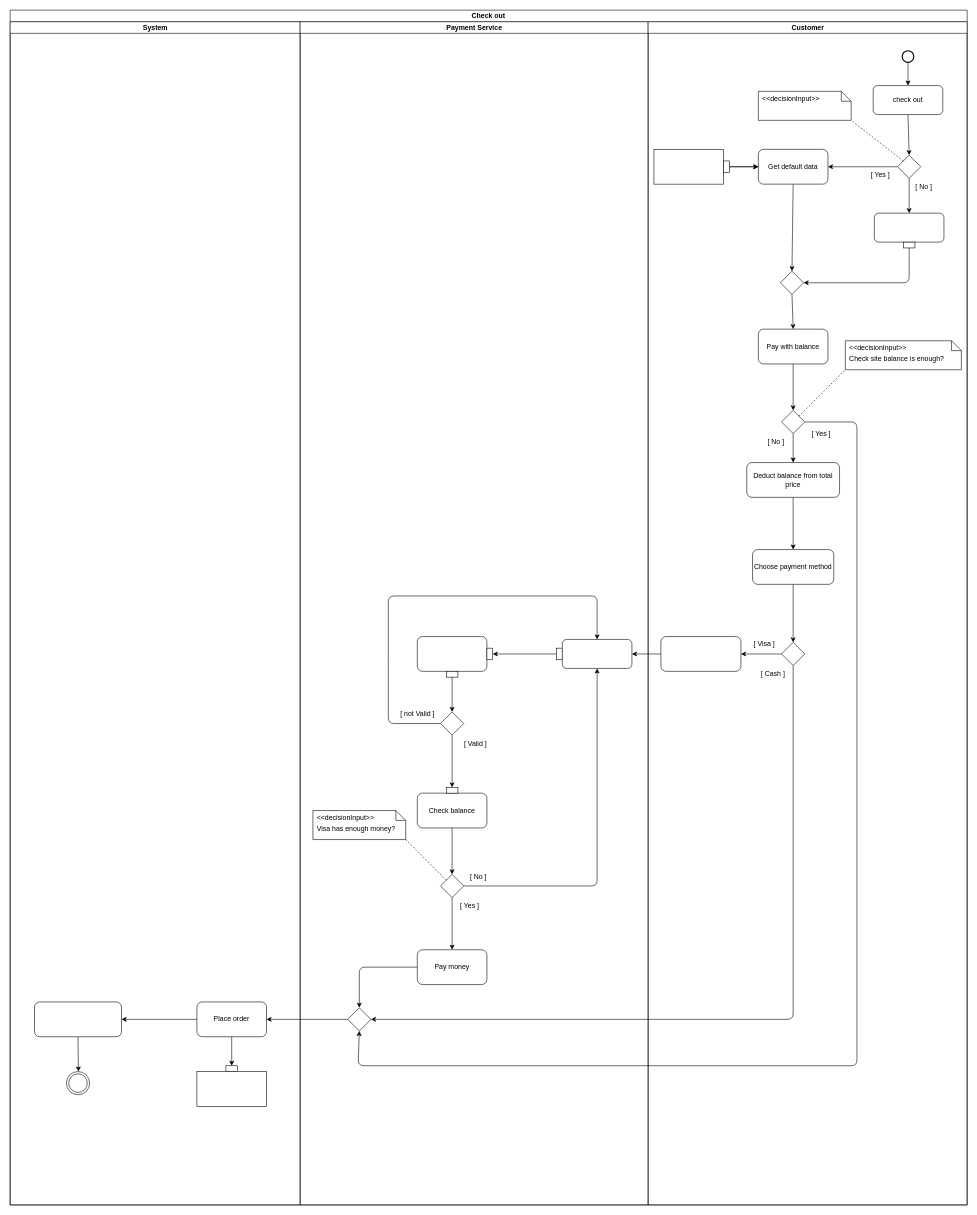
Some shapes in this 977 by 1215 pixel diagram are drawn without their labels. Here are the shapes that lost their labels. From the top down, the centre of each, then its label:
the point at 804,105: Continue with default data?
the point at 909,227: Enter new data
the point at 452,653: Check visa is vaild
the point at 597,653: Enter visa data
the point at 700,653: Redirect to payment page
the point at 78,1019: Send the recipt date to customer
the point at 231,1088: <<datastore>> Art works
